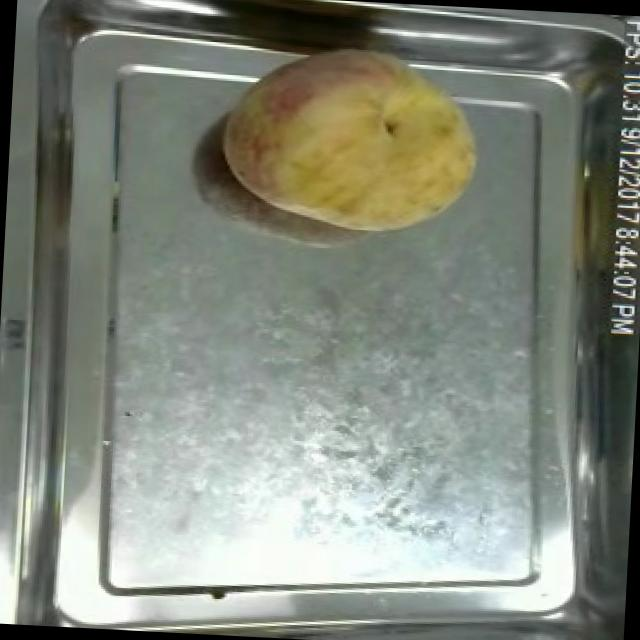Fruit: (207, 32, 493, 246)
